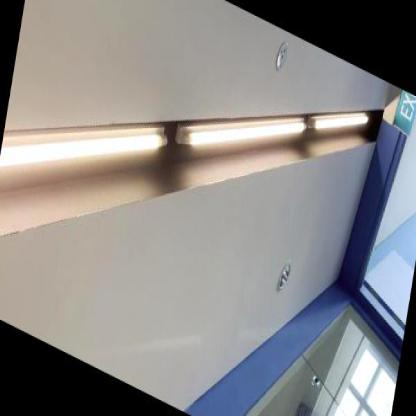light_on: (0, 43, 171, 256), (176, 55, 309, 231), (305, 80, 376, 163)
